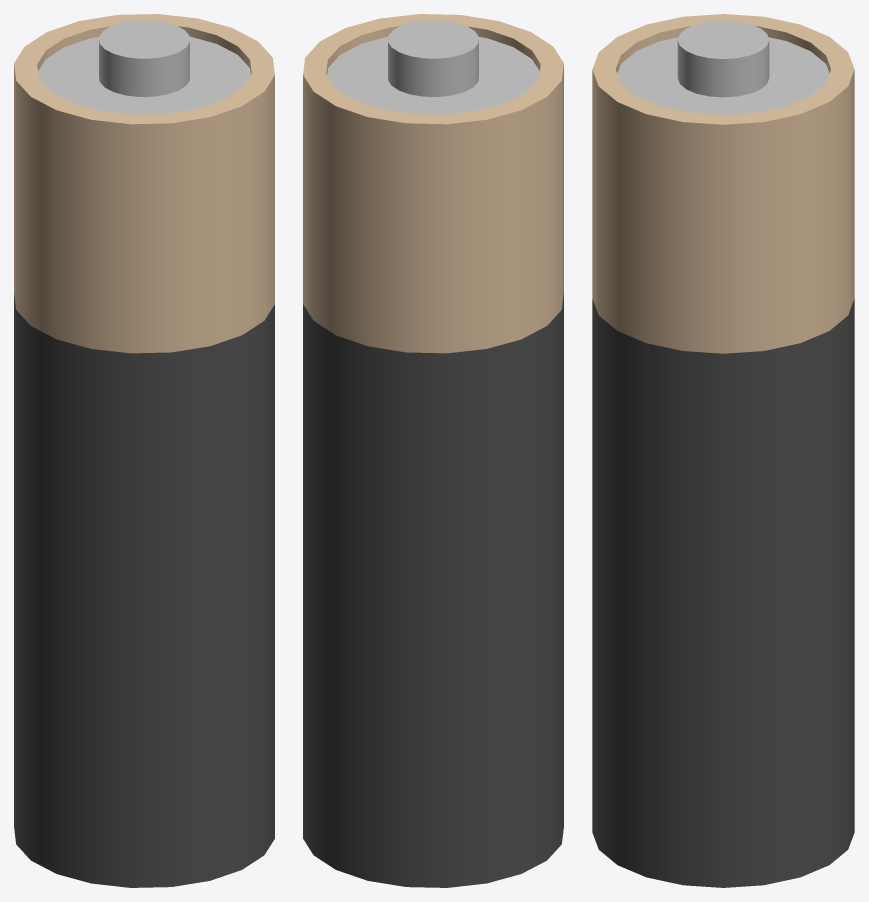
Rendered from AA_Battery.fbx.
3 renders of one model, left to right at view 1: azimuth 30°, elevation 25°; view 2: azimuth 150°, elevation 25°; view 3: azimuth 270°, elevation 25°, orthographic.
Parts seen in each view (by area): view 1: polySurface264; view 2: polySurface264; view 3: polySurface264.
Part boxes in pixels (x1=…): polySurface264: x1=14, y1=14, x2=274, y2=887; polySurface264: x1=303, y1=14, x2=563, y2=887; polySurface264: x1=592, y1=14, x2=854, y2=887.
Bounding box in the file's own units: 0.1687 × 0.5629 × 0.1687.
